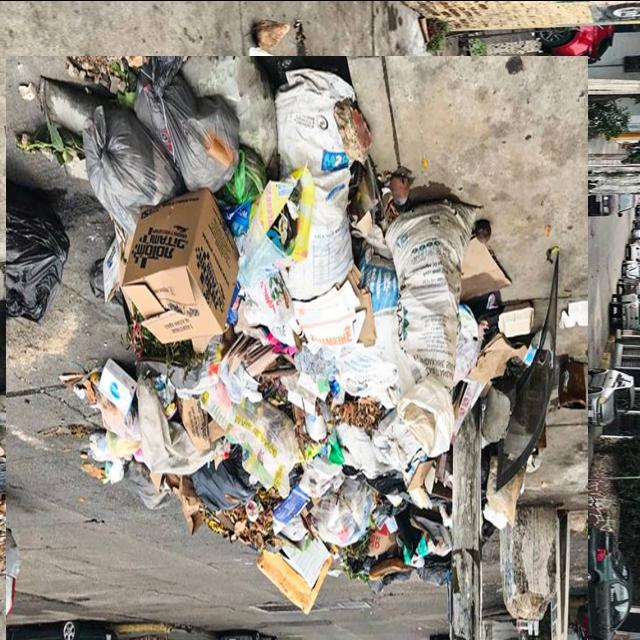garbage: (5, 56, 591, 640)
